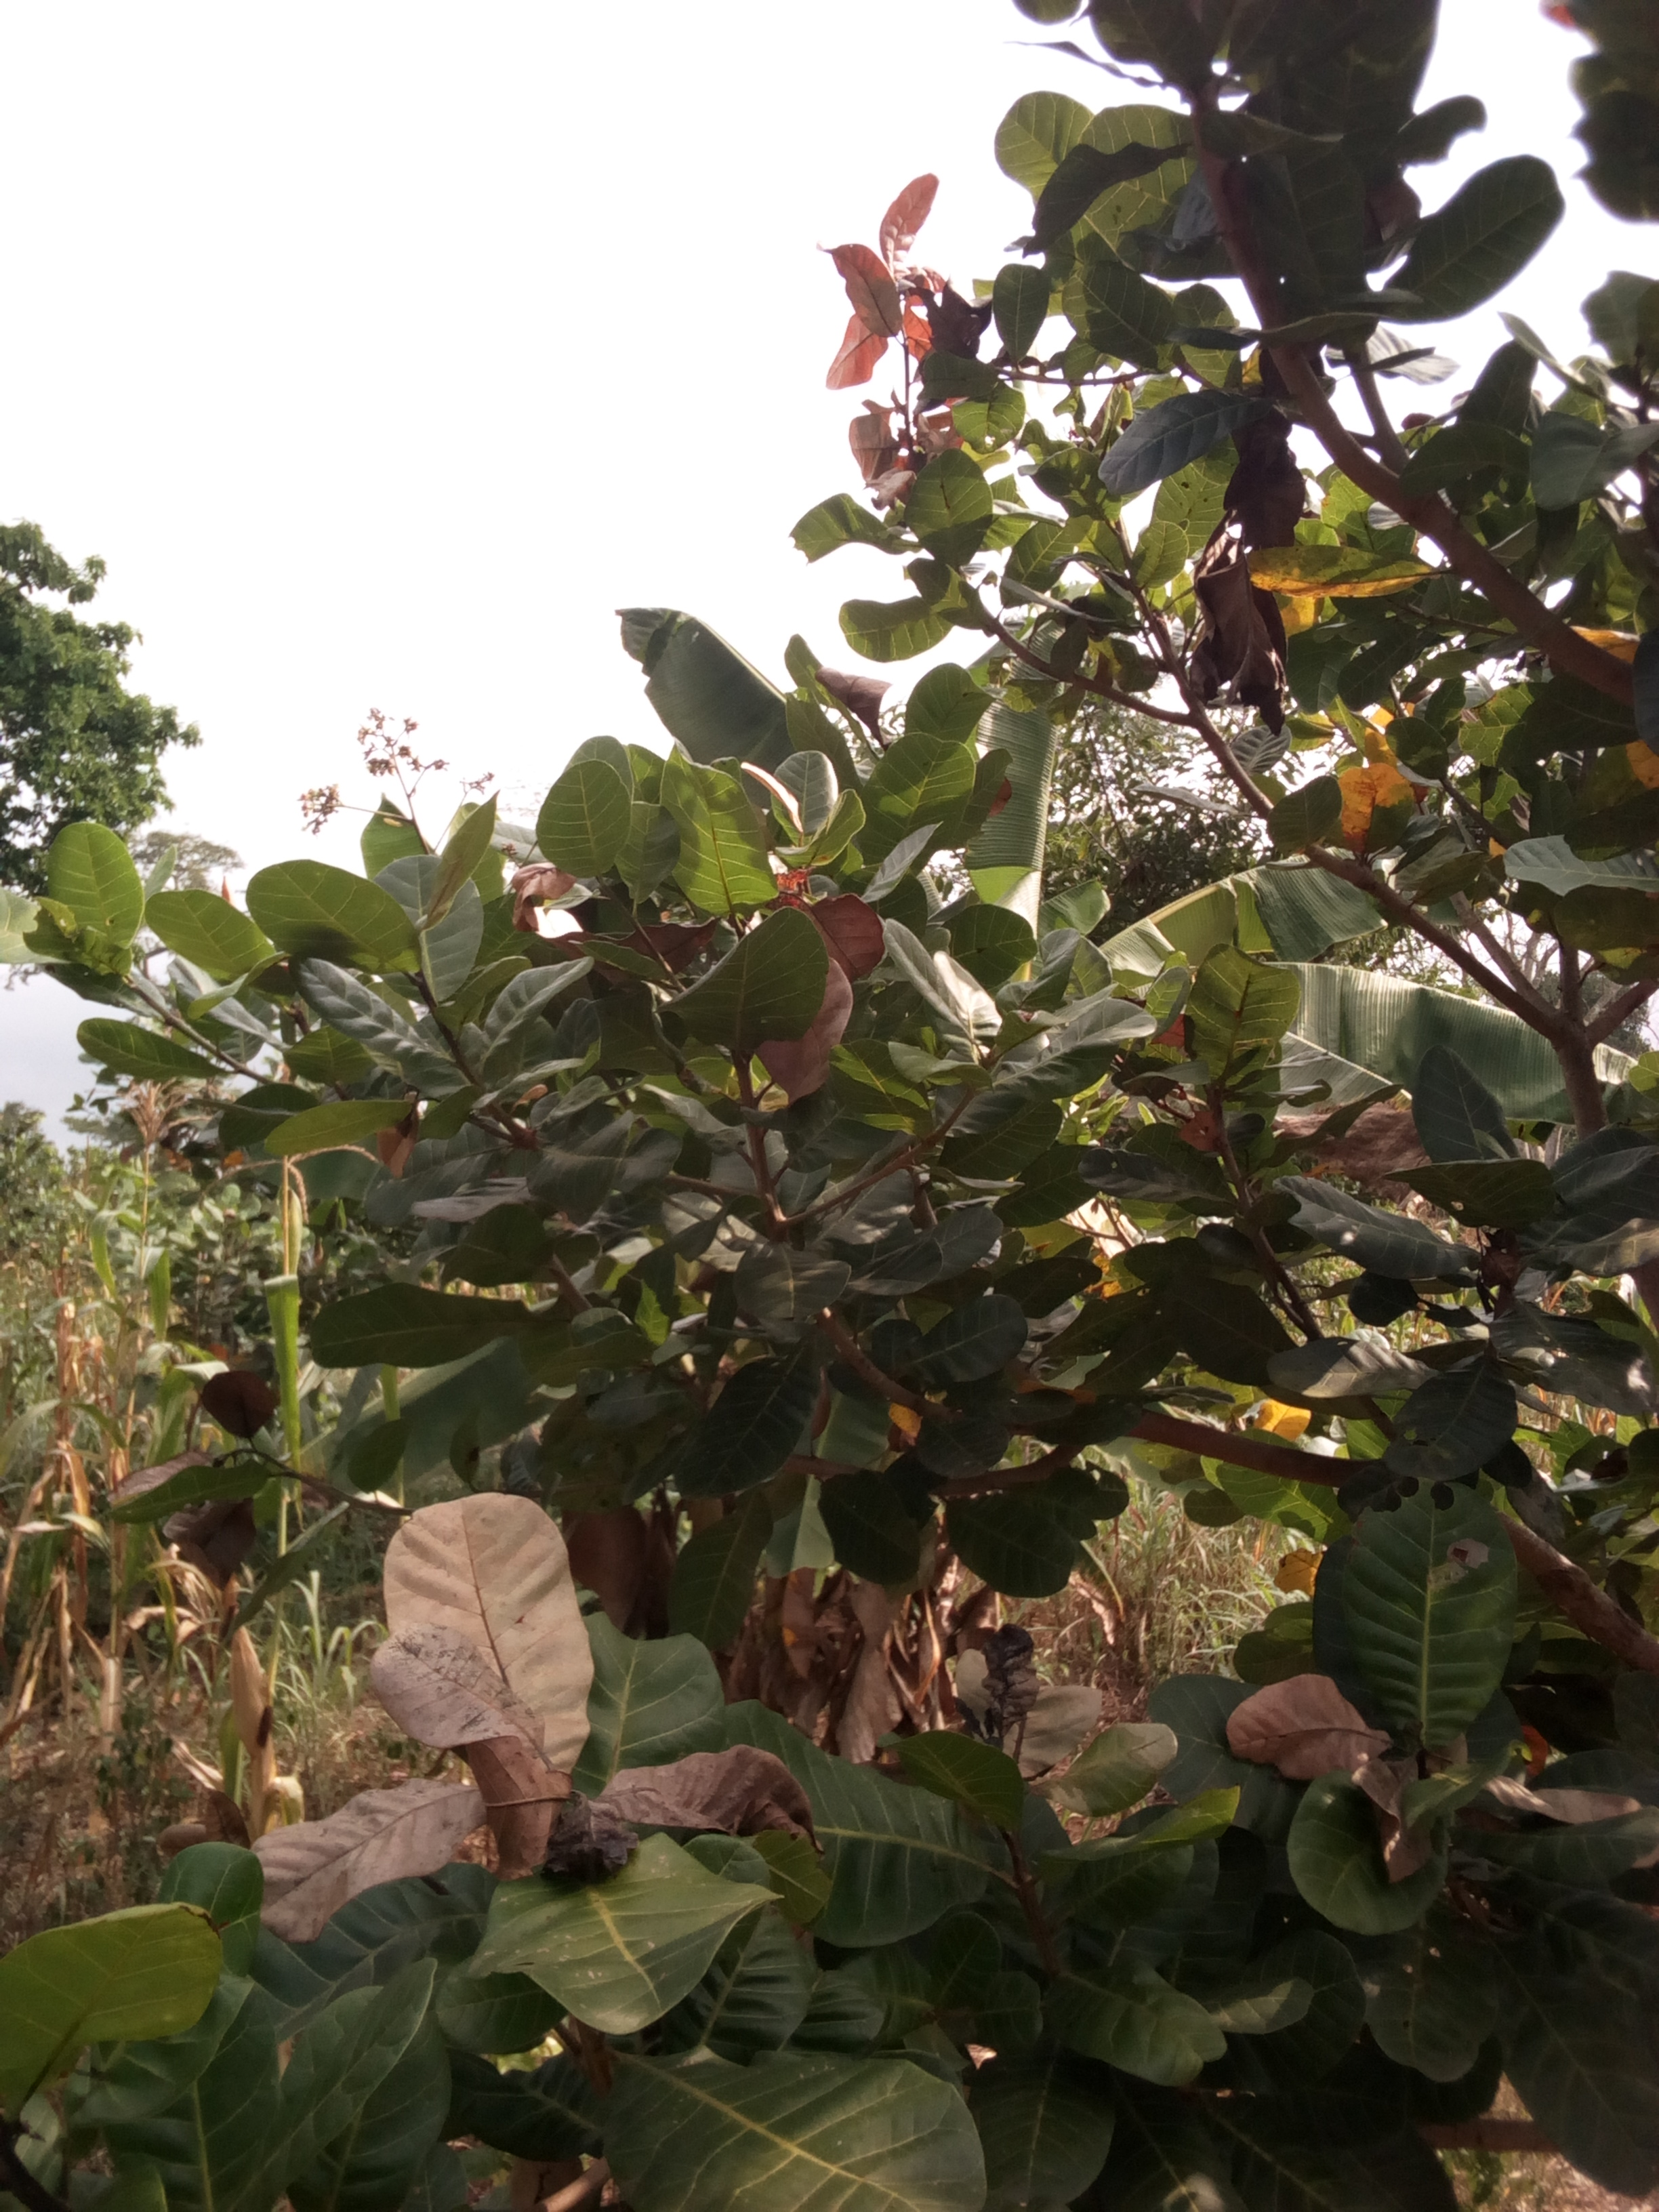Dessèchement des bourgeons: (471, 1747, 690, 1888)
